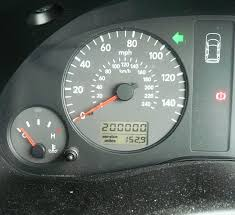Digital_Meter: (96, 121, 151, 144)
